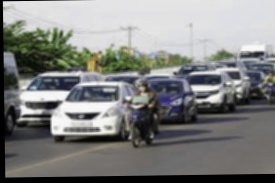Bien-so: (70, 121, 94, 127)
